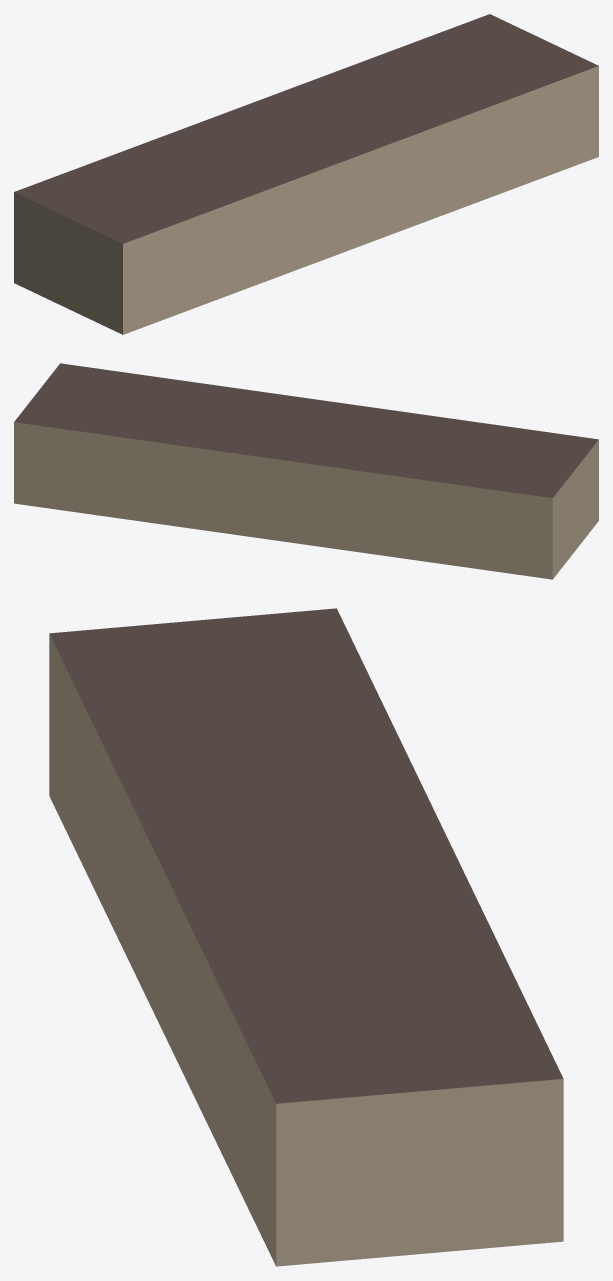
The picture shows the model from 3 angles, top to bottom: view 1: azimuth 30°, elevation 25°; view 2: azimuth 150°, elevation 25°; view 3: azimuth 270°, elevation 25°; orthographic projection. The views are drawn at different scales.
Parts seen in each view (by area): view 1: HP-w293513359; view 2: HP-w293513359; view 3: HP-w293513359.
Part boxes in pixels (box(x1,y1,x2,y2)): HP-w293513359: box(14, 14, 598, 334); HP-w293513359: box(14, 363, 598, 579); HP-w293513359: box(49, 608, 563, 1266).
Size of the model in its own units: 58.74 by 9 by 25.77.
